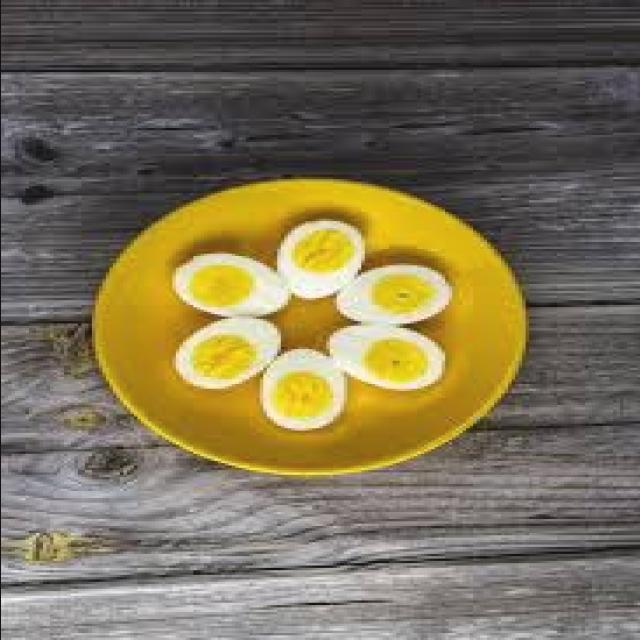telur rebus: (329, 326, 444, 391), (259, 347, 343, 431)
